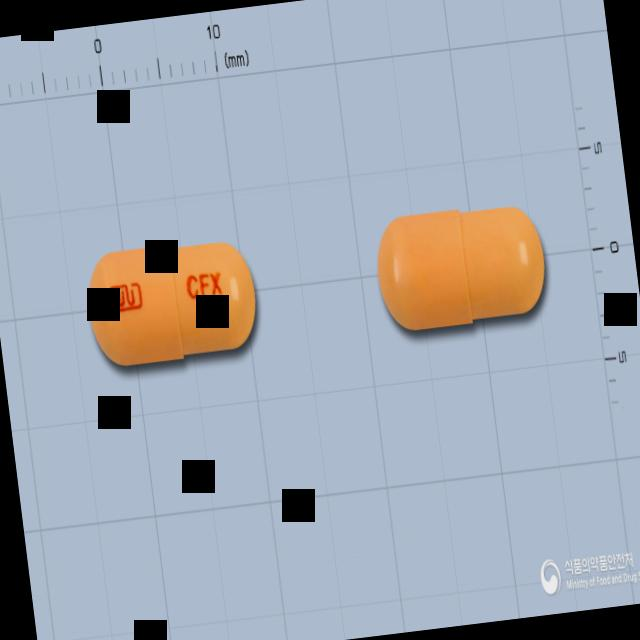Cefixime Cap- Withus: (79, 228, 268, 381)
